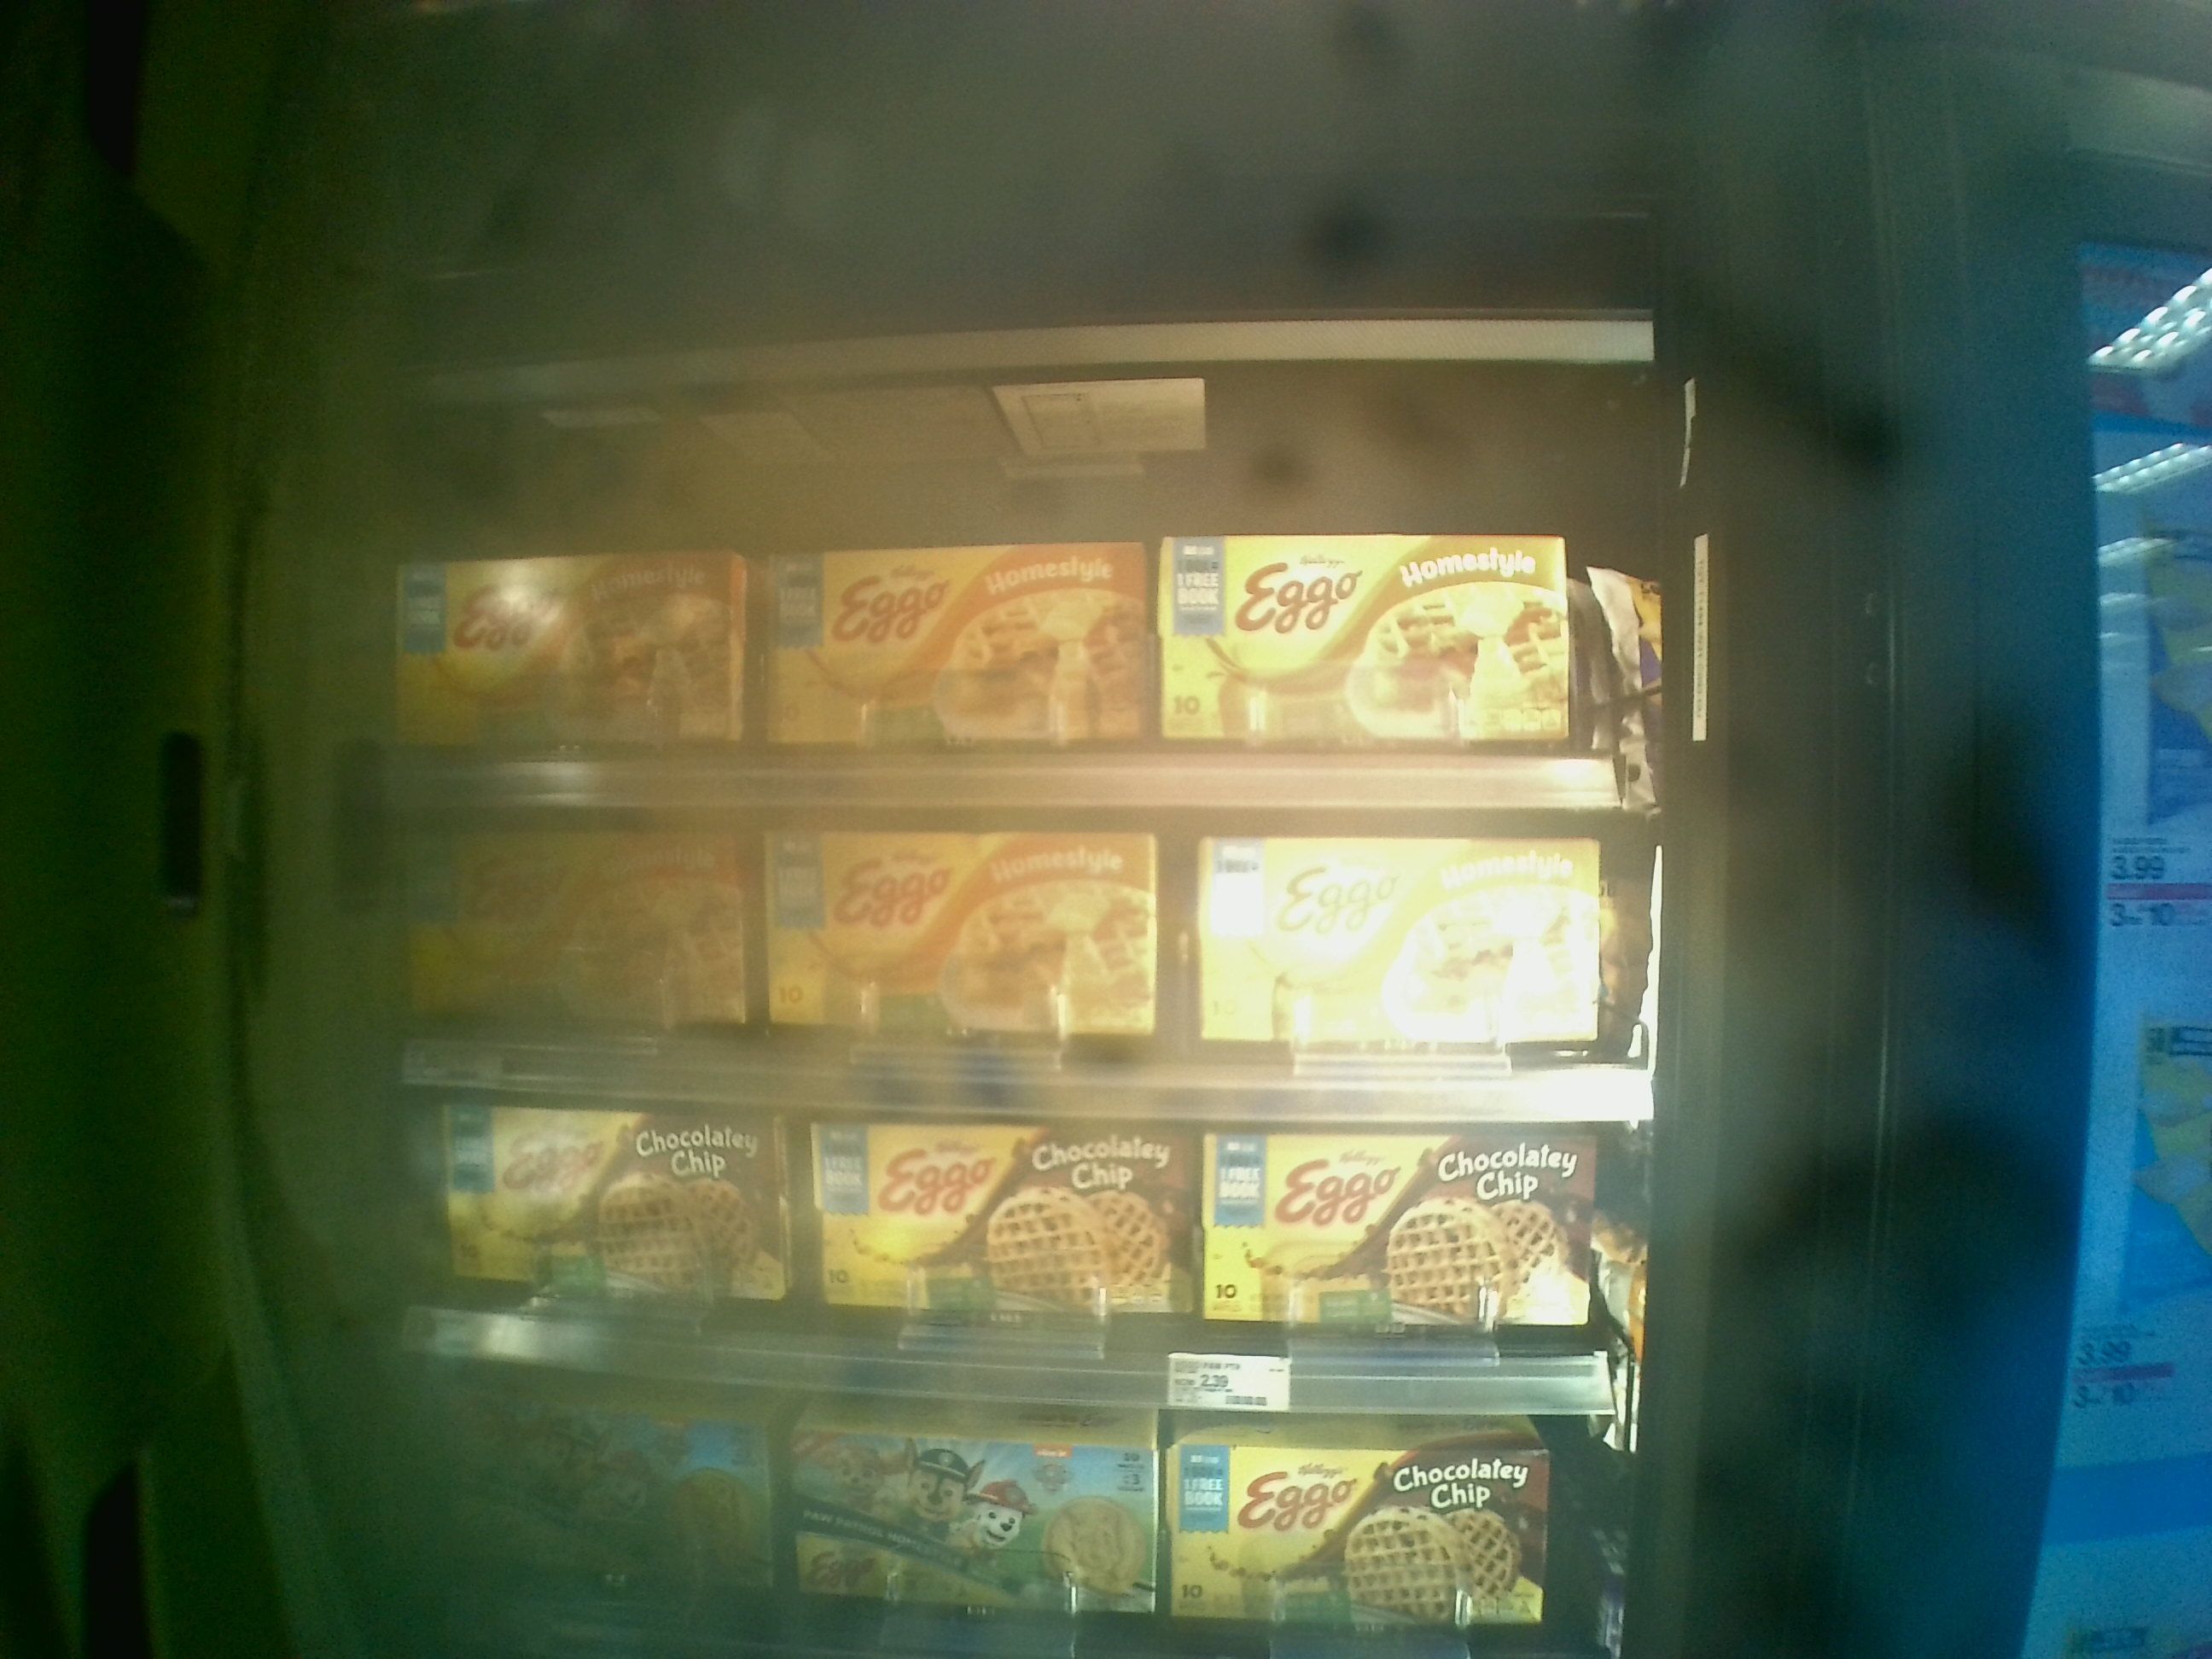frozen-food-shelf: (388, 1089, 1629, 1417)
